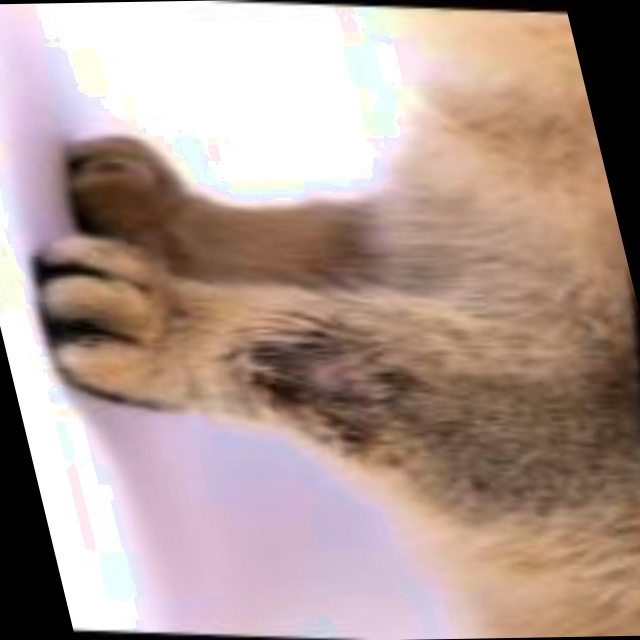ringworm: (262, 355, 409, 415)
